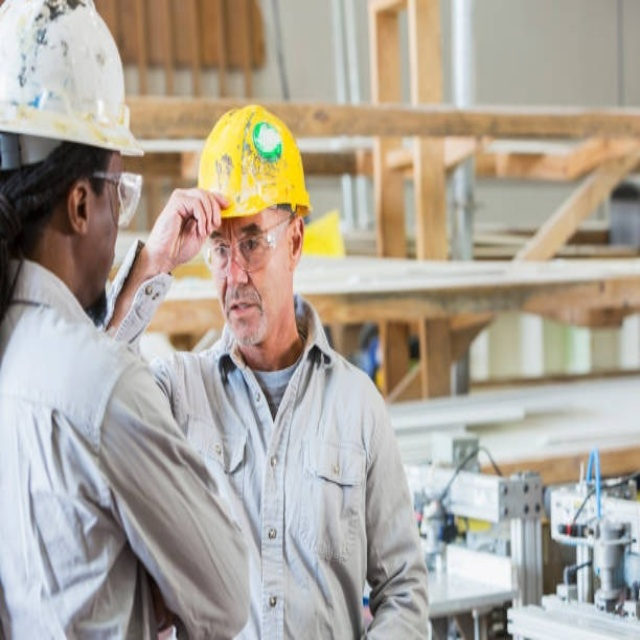Gafas: (205, 215, 293, 273), (87, 168, 145, 229)
Sin_guantes: (162, 179, 232, 273)
Sin_mascara: (220, 293, 268, 339)
